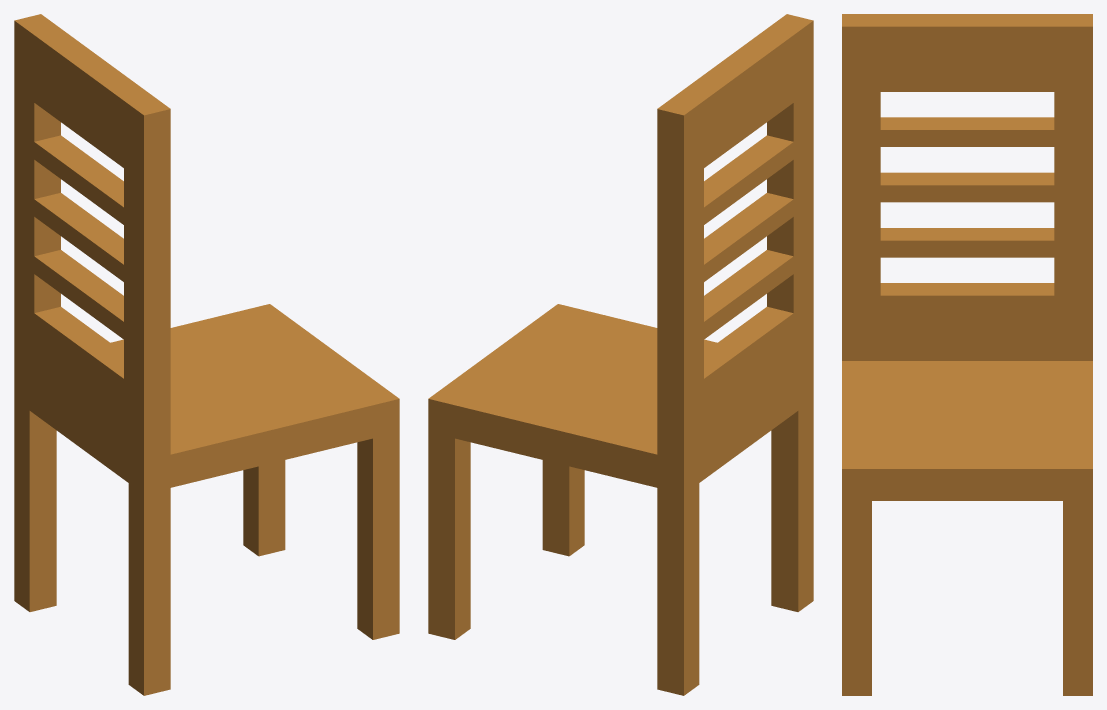
Rendered from Chair_Wood_Full.fbx.
The picture shows the model from 3 angles, left to right: view 1: azimuth 30°, elevation 25°; view 2: azimuth 150°, elevation 25°; view 3: azimuth 270°, elevation 25°; orthographic projection. The views are drawn at different scales.
Visible parts, largest first — view 1: Chair_Wood_Full; view 2: Chair_Wood_Full; view 3: Chair_Wood_Full.
Boxes of the visible parts, x1,y1,x2,y2 form: Chair_Wood_Full: (14,14,399,695); Chair_Wood_Full: (428,14,813,695); Chair_Wood_Full: (842,14,1092,695).
Size of the model in its own units: 555 by 1205 by 488.
